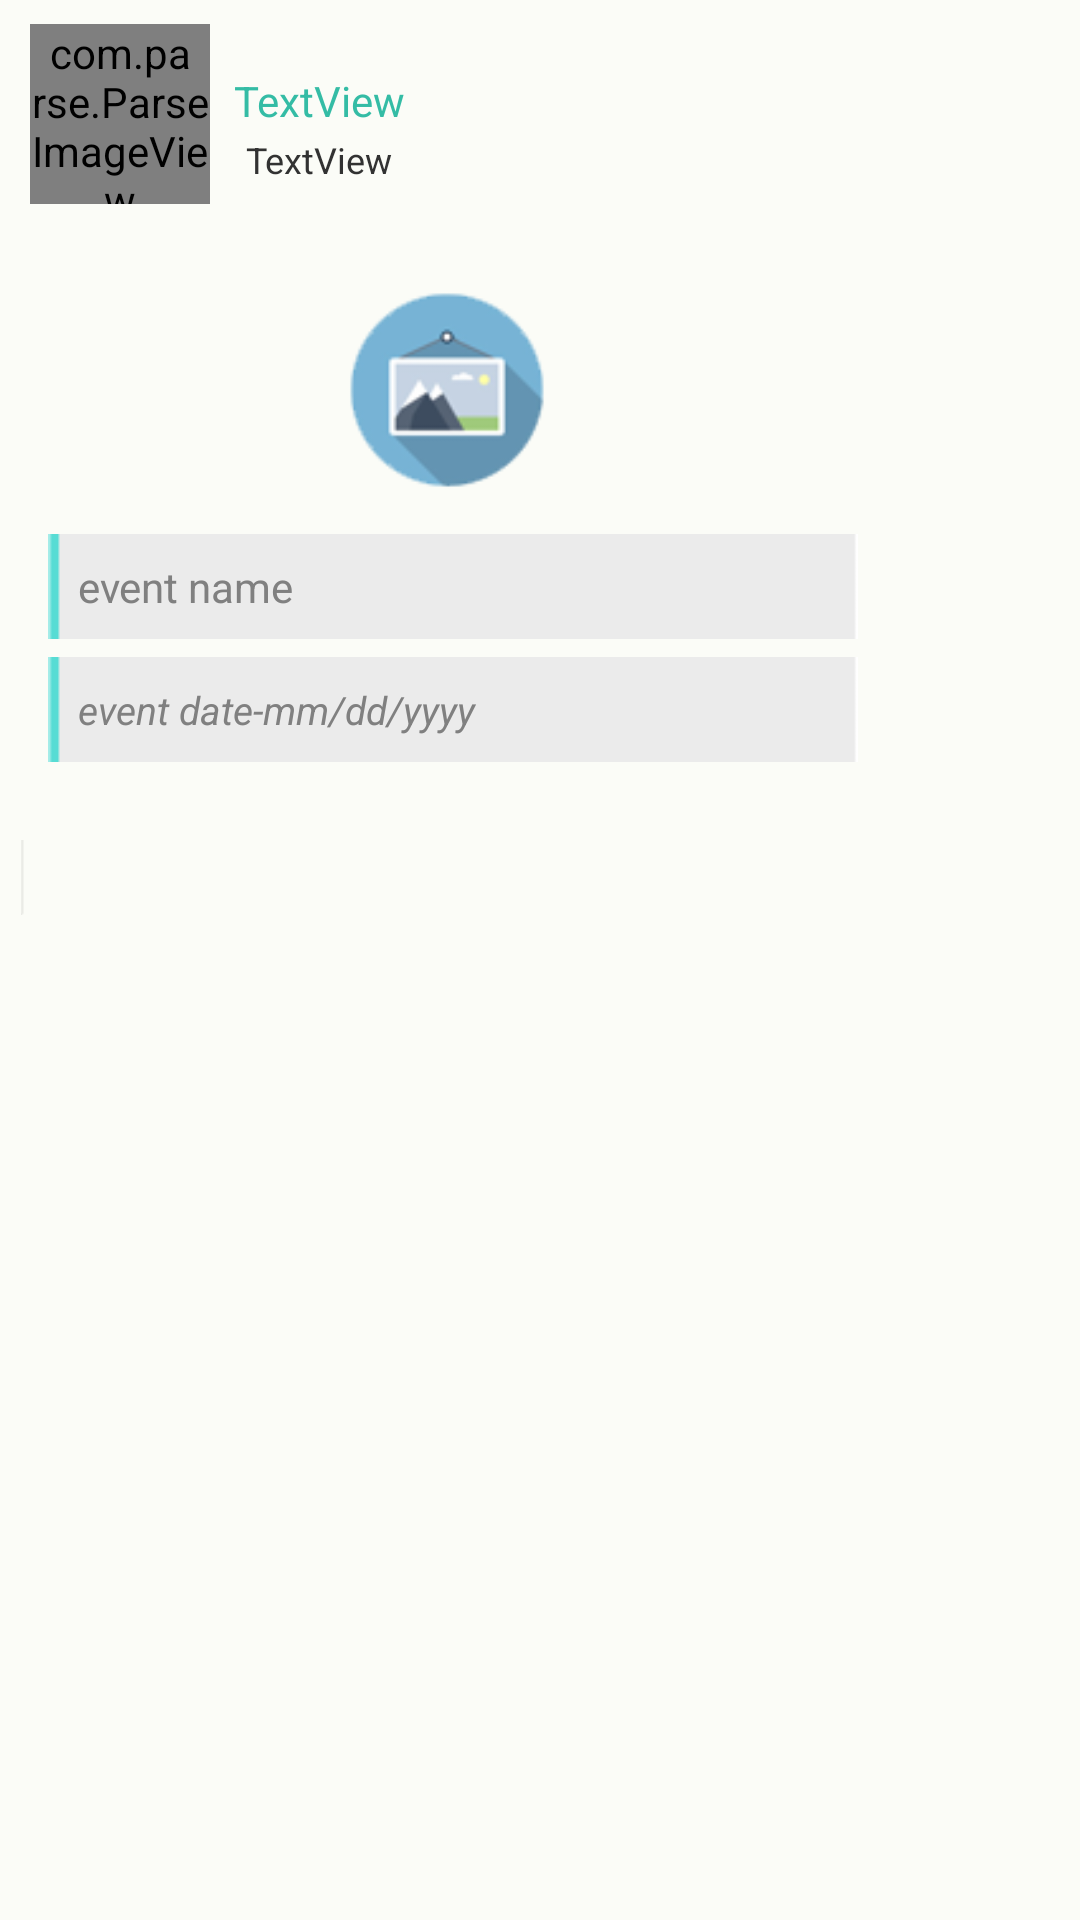

Point at icon controls on the screen. Image size 1080w x 1920h, points as (x,y).
photopost upload: (447,390)
